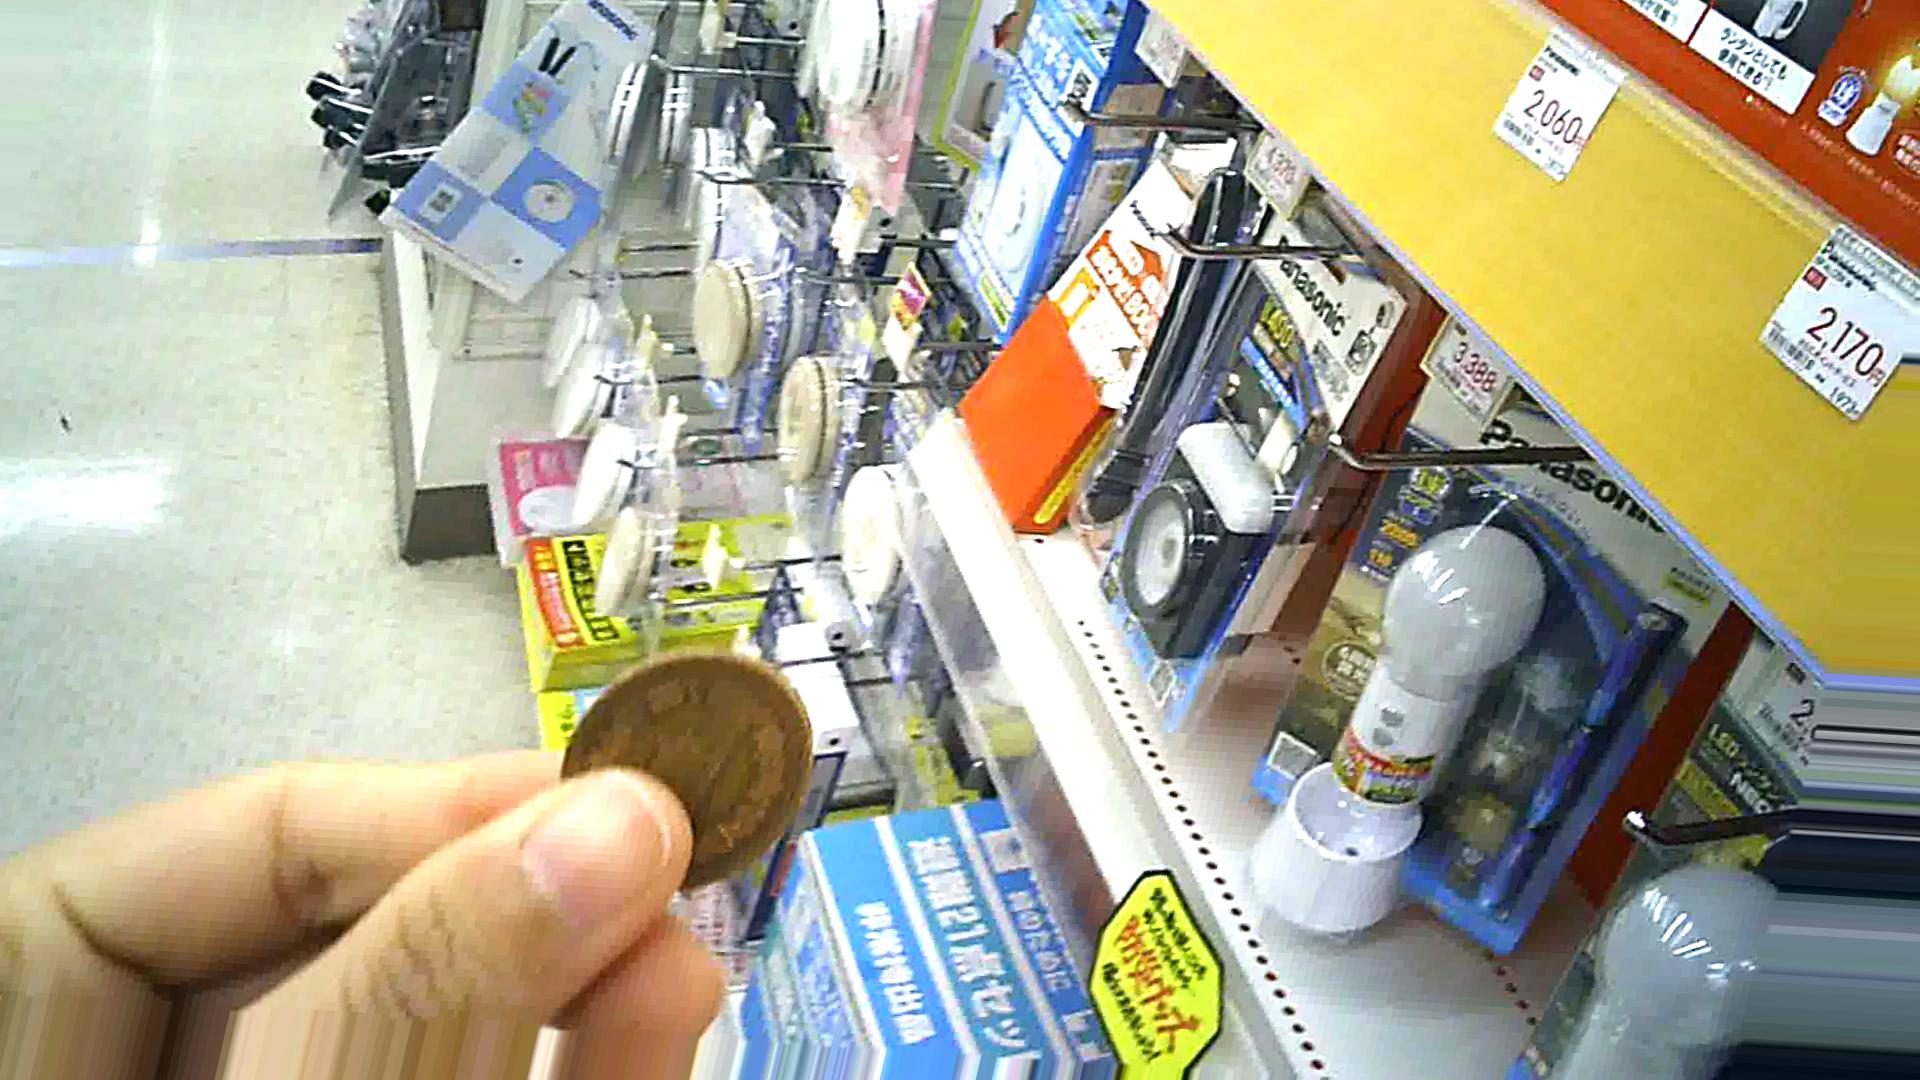10 Yen: (551, 647, 811, 905)
